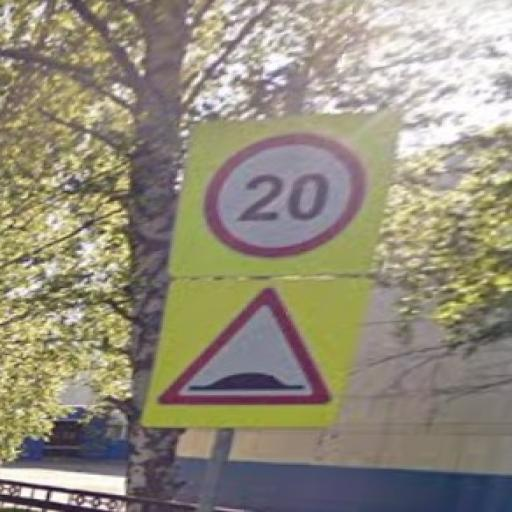traffic_sign: (155, 285, 336, 410), (205, 131, 370, 261)
